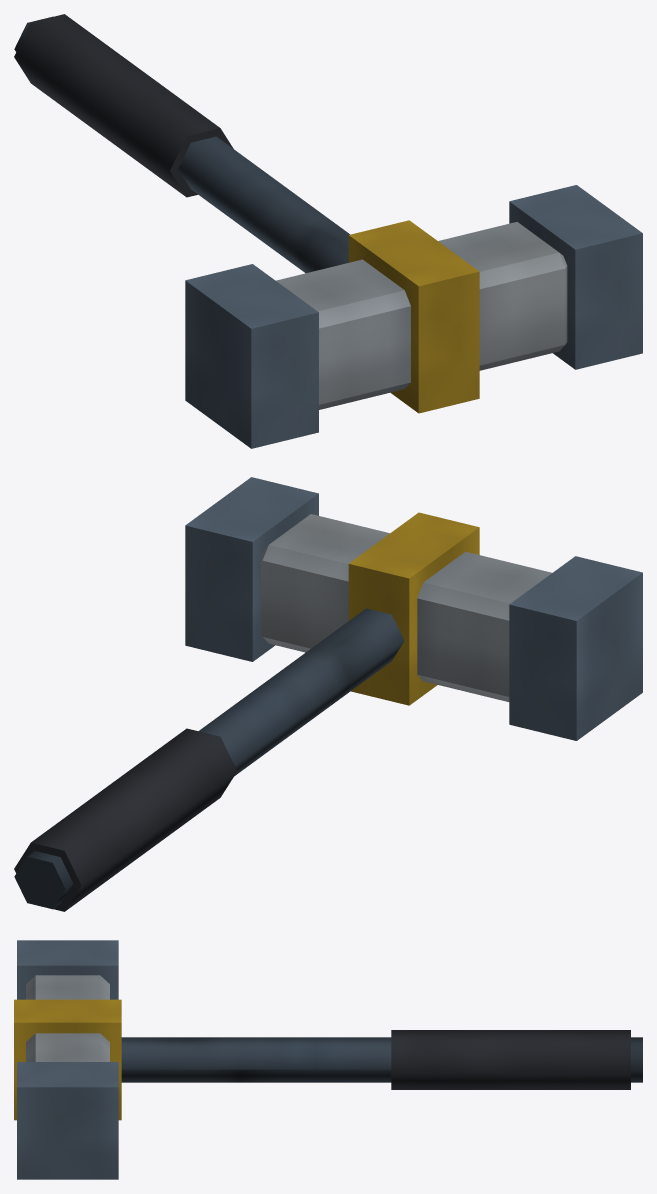
3 renders of one model, top to bottom at view 1: azimuth 30°, elevation 25°; view 2: azimuth 150°, elevation 25°; view 3: azimuth 270°, elevation 25°, orthographic. The views are drawn at different scales.
Parts seen in each view (by area): view 1: dweller_tool_hammer; view 2: dweller_tool_hammer; view 3: dweller_tool_hammer.
Part boxes in pixels (bbox=[...]): dweller_tool_hammer: bbox=[14, 14, 642, 448]; dweller_tool_hammer: bbox=[14, 477, 642, 911]; dweller_tool_hammer: bbox=[14, 940, 642, 1179].
Bounding box in the file's own units: 0.29 × 0.09 × 0.525.
5 materials, 5 textured.
